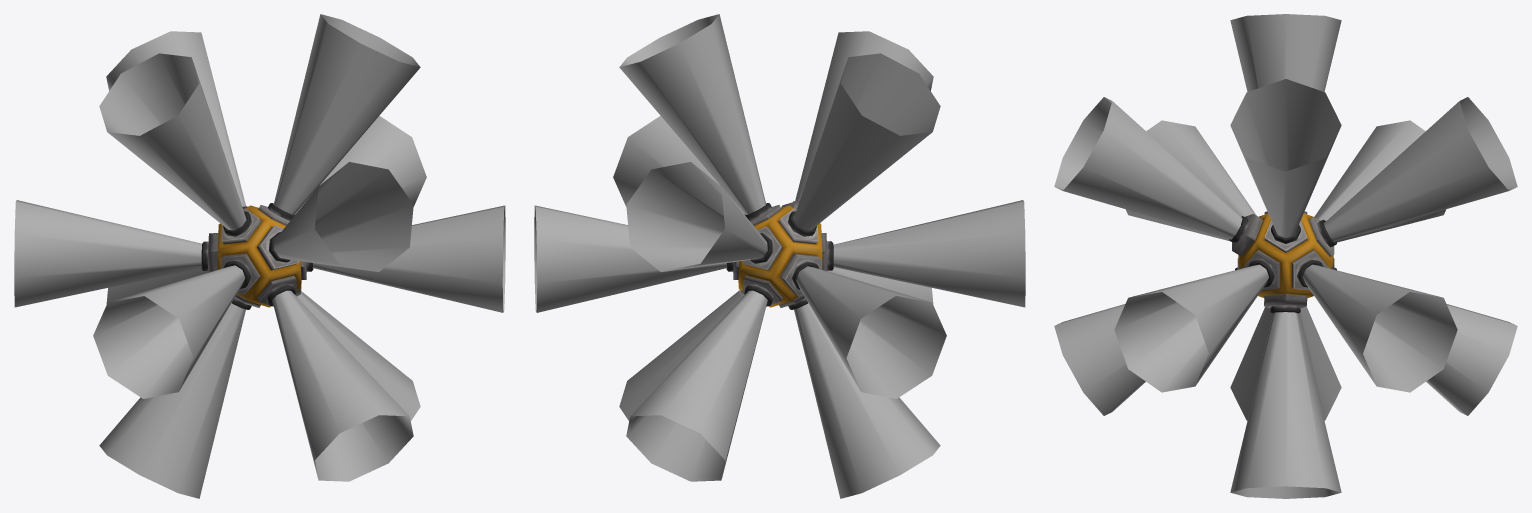
Rendered from discoball.fbx.
The picture shows the model from 3 angles, left to right: view 1: azimuth 30°, elevation 25°; view 2: azimuth 150°, elevation 25°; view 3: azimuth 270°, elevation 25°; orthographic projection. The views are drawn at different scales.
Parts seen in each view (by area): view 1: pCylinder15, pCylinder14, polySurface6; view 2: pCylinder15, pCylinder14, polySurface6; view 3: pCylinder15, pCylinder14, polySurface6.
Boxes of the visible parts, <box> form: pCylinder15: <box>14,14,505,498</box>; pCylinder14: <box>95,16,504,480</box>; polySurface6: <box>201,203,313,309</box>; pCylinder15: <box>534,14,1025,498</box>; pCylinder14: <box>535,16,944,478</box>; polySurface6: <box>726,201,833,309</box>; pCylinder15: <box>1054,14,1517,498</box>; pCylinder14: <box>1055,80,1515,497</box>; polySurface6: <box>1229,211,1336,313</box>.
Size of the model in its own units: 11.7 by 11.7 by 11.7.
